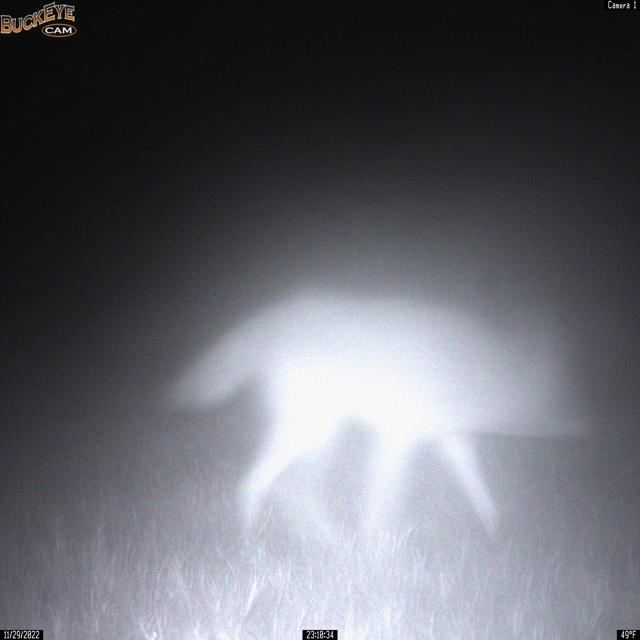coyote: (164, 286, 598, 564)
